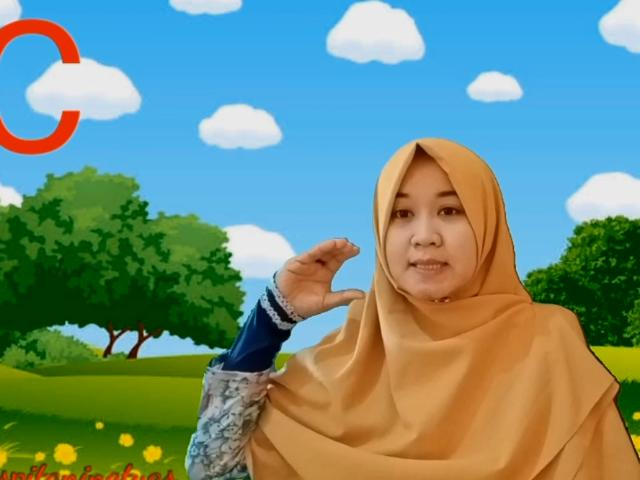C: (269, 236, 371, 312)
